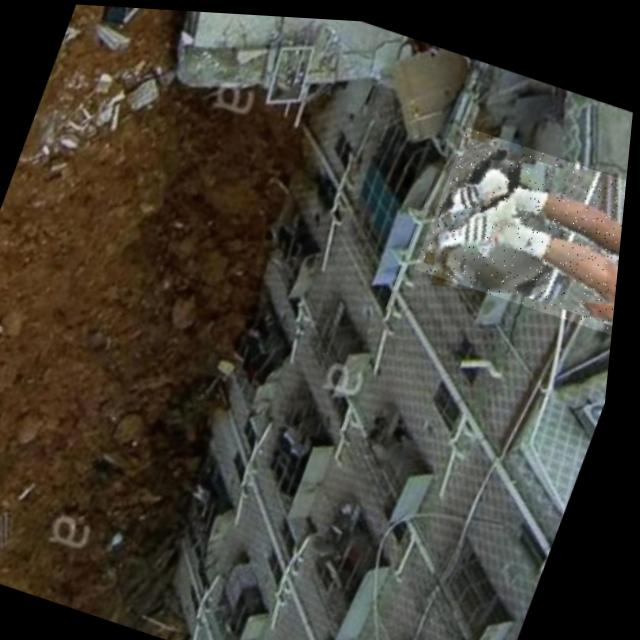Person in Rubble: (413, 118, 633, 327)
